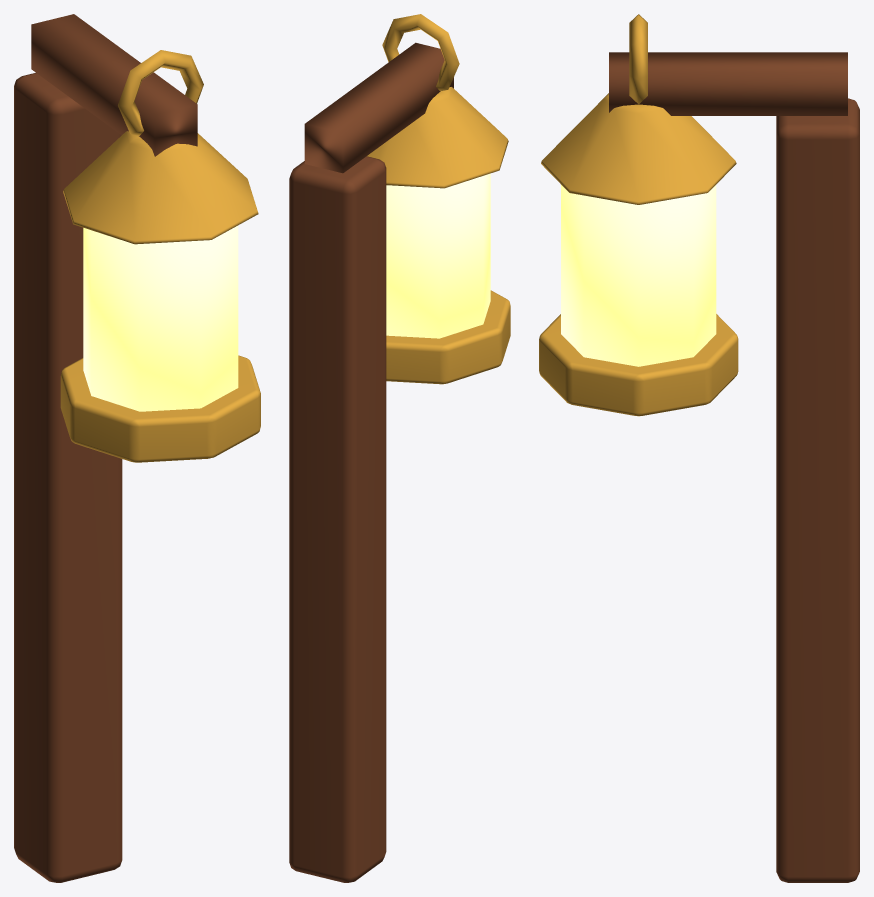
File: cove_exit_lantern.glb
3 views of the same model, side by side, from view 1: azimuth 30°, elevation 25°; view 2: azimuth 150°, elevation 25°; view 3: azimuth 270°, elevation 25° (orthographic). The views are drawn at different scales.
Visible parts, largest first — view 1: ExitLantern; view 2: ExitLantern; view 3: ExitLantern.
Part boxes in pixels (x1,y1,x2,y2): ExitLantern: (14,14,260,882); ExitLantern: (289,14,510,882); ExitLantern: (539,14,859,882).
Bounding box in the file's own units: 0.3335 × 1.58 × 0.5368.
